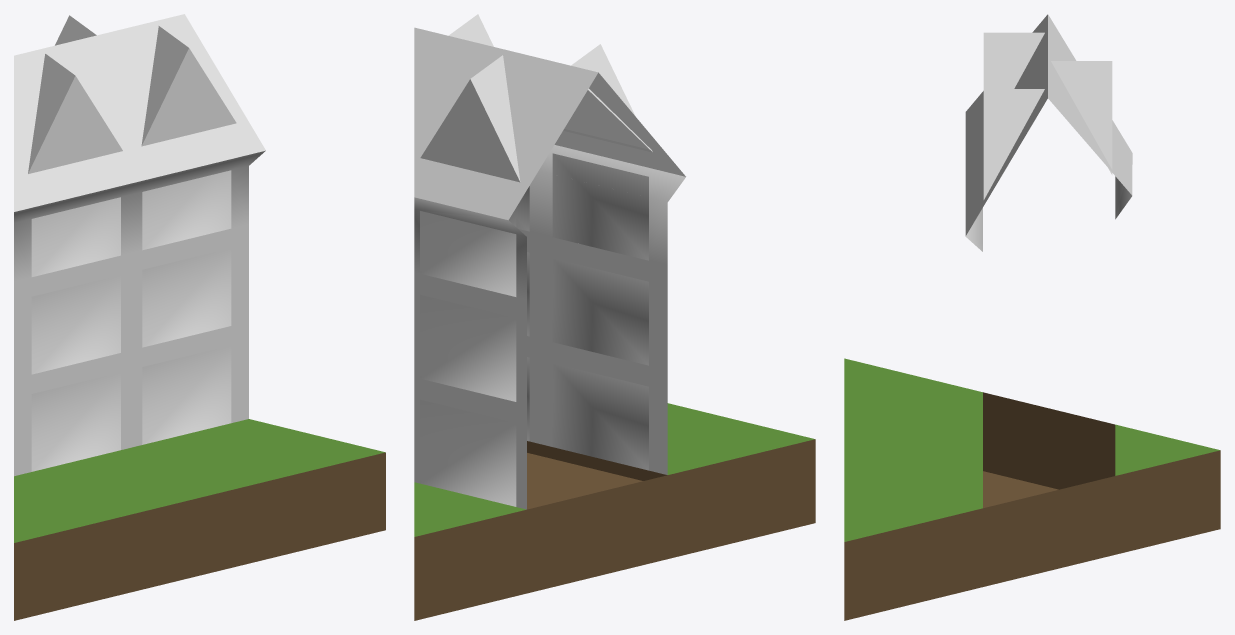
Rendered from Pis_Adossat_Simetric_DE.fbx.
The picture shows the model from 3 angles, left to right: view 1: azimuth 30°, elevation 25°; view 2: azimuth 150°, elevation 25°; view 3: azimuth 270°, elevation 25°; orthographic projection. The views are drawn at different scales.
Parts seen in each view (by area): view 1: Pis_Adossat_Simetric_DE, DetallParet.016, DetallParet.019, DetallParet.018, DetallParet.017, DetallTeulada.016, DetallTeulada.017, DetallParet.020, DetallParet.021, DetallTeulada.020; view 2: Pis_Adossat_Simetric_DE, DetallParet.020, DetallParet.023, DetallParet.019, DetallParet.022, DetallParet.016, DetallTeulada.020, DetallParet.024, DetallTeulada.017, DetallTeulada.016; view 3: Pis_Adossat_Simetric_DE, DetallTeulada.016, DetallTeulada.020, DetallTeulada.017.
Boxes of the visible parts, x1,y1,x2,y2 form: Pis_Adossat_Simetric_DE: (14,14,385,620); DetallParet.016: (31,372,120,471); DetallParet.019: (31,275,120,374); DetallParet.018: (142,248,231,347); DetallParet.017: (142,345,231,444); DetallTeulada.016: (141,26,236,146); DetallTeulada.017: (28,54,122,173); DetallParet.020: (31,197,120,276); DetallParet.021: (142,170,231,250); DetallTeulada.020: (55,15,96,45); Pis_Adossat_Simetric_DE: (414,27,815,620); DetallParet.020: (552,153,648,260); DetallParet.023: (420,294,516,401); DetallParet.019: (552,258,648,365); DetallParet.022: (420,399,516,506); DetallParet.016: (552,363,648,470); DetallTeulada.020: (420,55,520,182); DetallParet.024: (420,211,516,296); DetallTeulada.017: (563,44,652,152); DetallTeulada.016: (448,14,493,46); Pis_Adossat_Simetric_DE: (844,14,1220,620); DetallTeulada.016: (983,89,1044,199); DetallTeulada.020: (1051,61,1112,174); DetallTeulada.017: (983,32,1044,88).
Size of the model in its own units: 100 by 120 by 86.6.
